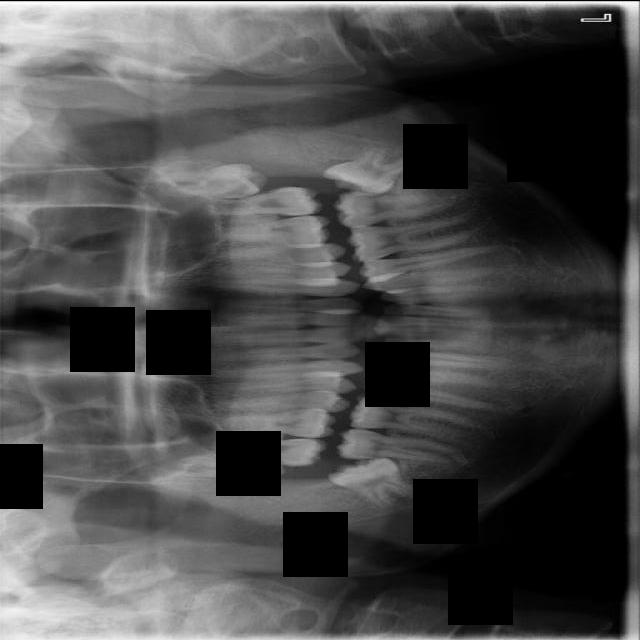3M ESPE Implant: (170, 455, 287, 486)
73: (614, 9, 628, 19)
BioHorizons Implant: (187, 186, 322, 215)
BioLife Implant: (137, 160, 271, 206)
Biomet 3i Implant: (319, 124, 431, 214)
Blue Sky Bio Implant: (331, 186, 456, 228)
Caries: (193, 433, 326, 467)
Implant: (333, 425, 459, 466)
Keystone Dental Implant: (326, 436, 436, 527)
